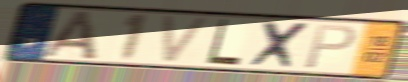1: (118, 12, 150, 63)
A: (38, 9, 100, 61)
L: (204, 18, 244, 67)
P: (301, 23, 359, 71)
V: (160, 14, 214, 65)
X: (246, 19, 315, 71)
